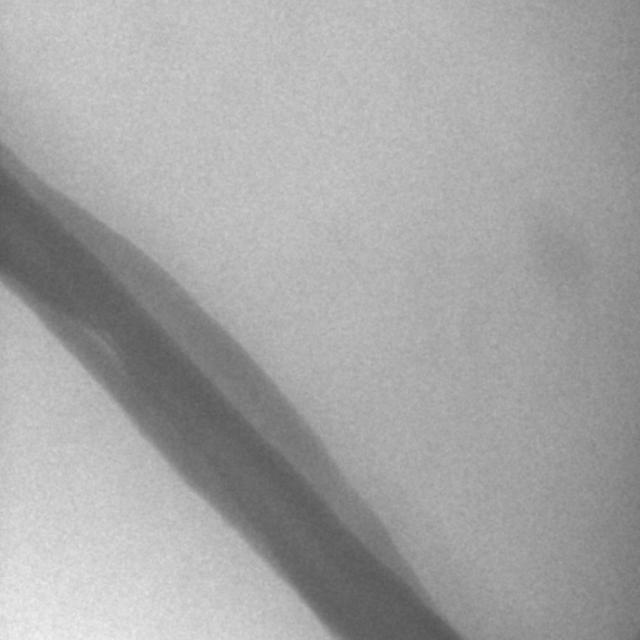unfused: (71, 321, 125, 372)
